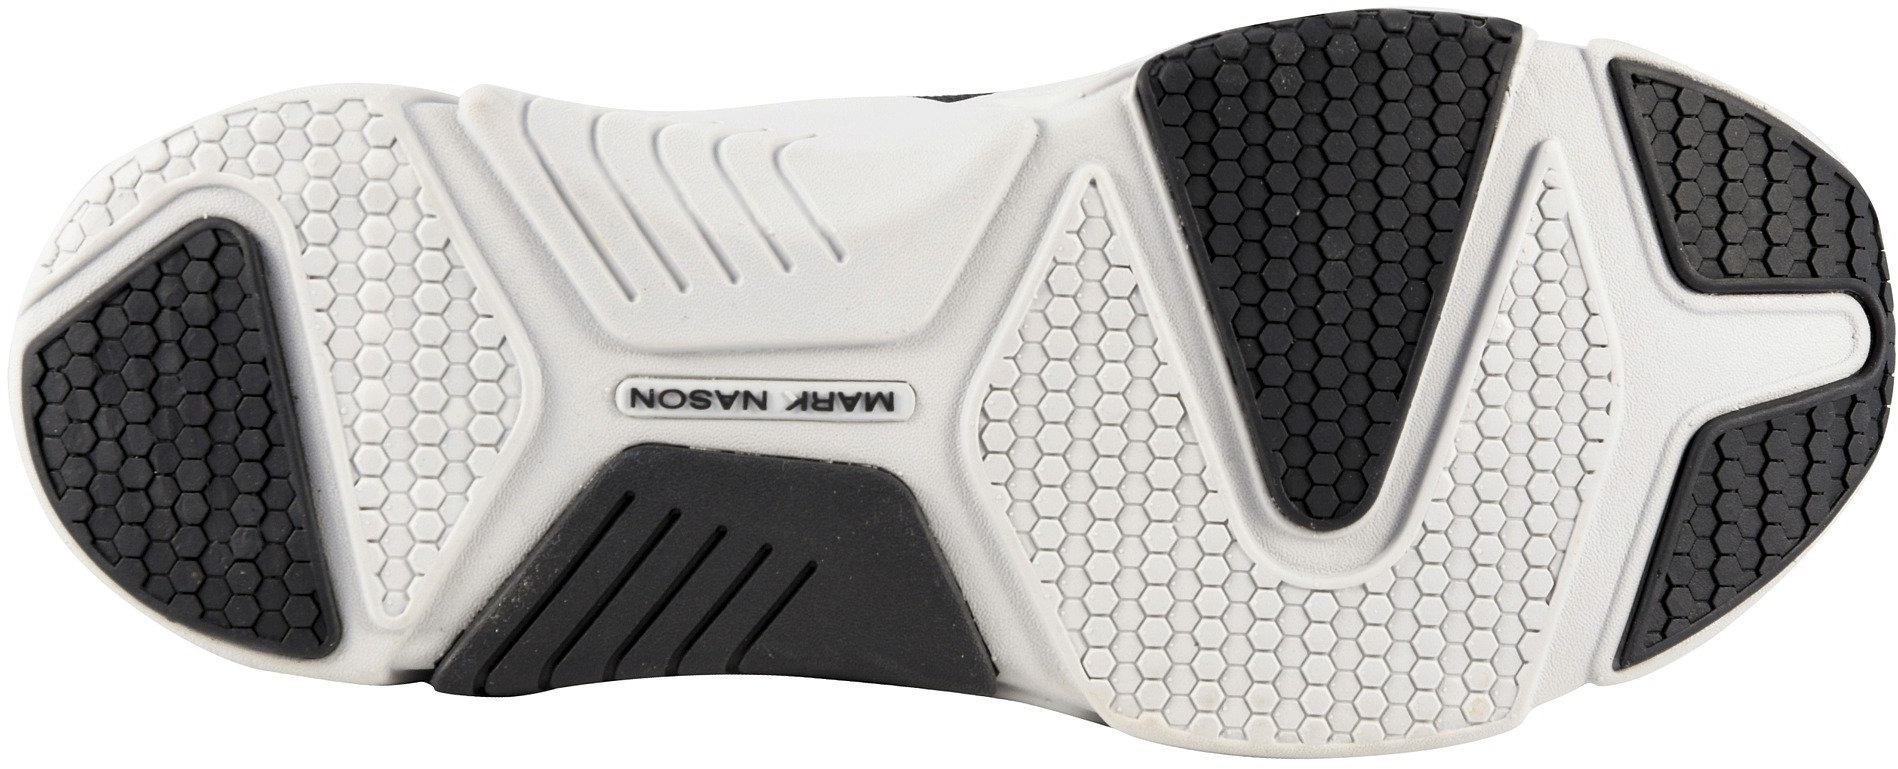polygon: (1223, 36, 1453, 263), (65, 317, 245, 506), (329, 275, 505, 447), (1072, 520, 1240, 675), (1248, 266, 1411, 421), (1271, 589, 1430, 742), (1020, 333, 1161, 495), (1685, 120, 1814, 262), (1463, 396, 1594, 518), (1712, 444, 1817, 550)
text: (708, 375, 763, 423), (835, 378, 891, 424), (626, 377, 663, 420), (792, 383, 833, 421)
